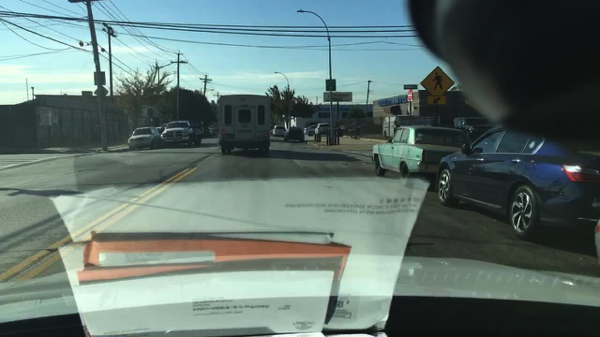bus: (218, 94, 271, 155)
car: (434, 125, 599, 241), (370, 125, 473, 188), (452, 116, 493, 143), (160, 120, 199, 148), (127, 126, 162, 151), (283, 126, 305, 143), (350, 123, 381, 134), (190, 119, 206, 139), (335, 123, 353, 136), (314, 122, 330, 135), (272, 125, 287, 138), (303, 124, 316, 138), (206, 126, 215, 138), (156, 127, 167, 134)
traffic sign: (419, 67, 455, 96), (426, 95, 447, 105), (94, 71, 106, 86), (94, 86, 109, 98), (324, 79, 337, 91), (406, 103, 414, 116), (403, 84, 418, 89), (407, 90, 412, 102)
truck: (382, 115, 440, 140)
